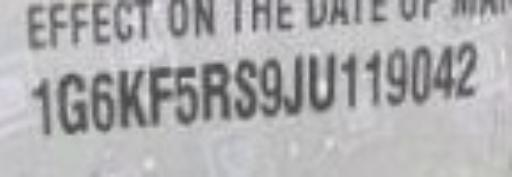letter: (302, 45, 340, 116), (52, 70, 92, 137), (196, 60, 234, 127), (114, 67, 152, 130), (277, 50, 309, 123), (170, 60, 202, 131), (451, 35, 483, 102), (145, 63, 177, 130), (231, 53, 259, 126), (256, 53, 284, 126), (24, 74, 56, 137), (89, 67, 117, 138), (430, 38, 458, 105), (359, 42, 387, 109), (382, 43, 410, 110), (334, 46, 362, 113), (405, 42, 433, 105)
